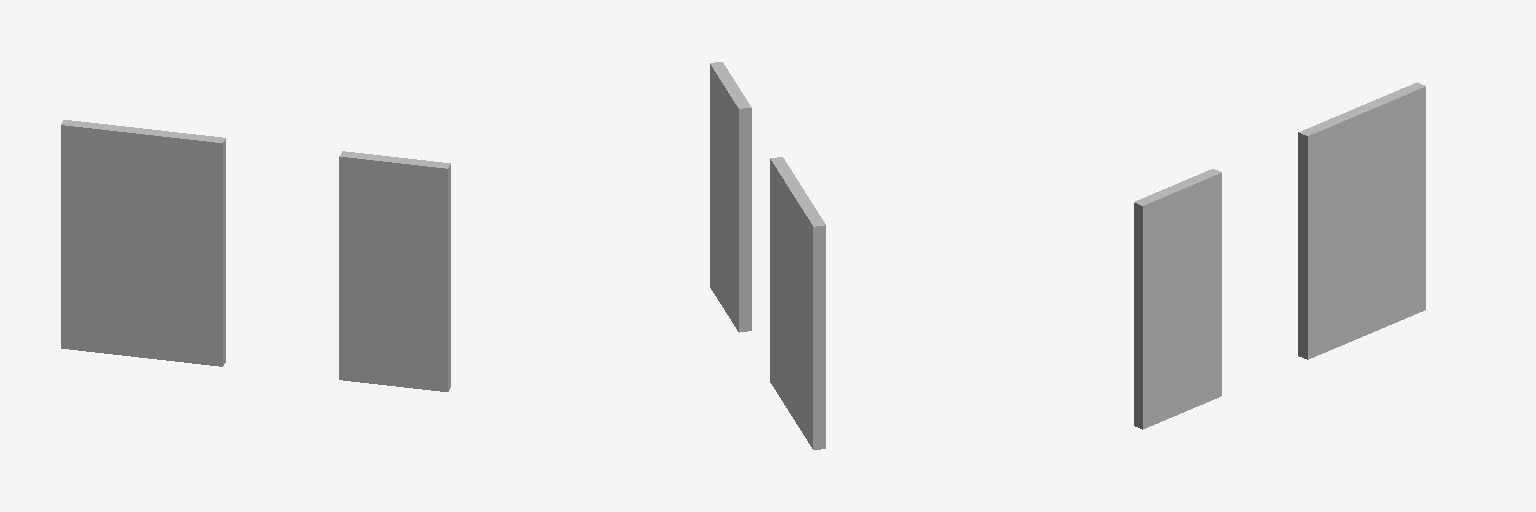
The model's file is bathwallparts.obj.
The picture shows the model from 3 angles: view 1: azimuth 30°, elevation 25°; view 2: azimuth 150°, elevation 25°; view 3: azimuth 270°, elevation 25°; orthographic projection.
Parts seen in each view (by area): view 1: Cube.006_Cube.009, Cube.008; view 2: Cube.006_Cube.009, Cube.008; view 3: Cube.006_Cube.009, Cube.008.
Boxes of the visible parts, x1,y1,x2,y2 form: Cube.006_Cube.009: [61, 120, 225, 366]; Cube.008: [339, 151, 450, 391]; Cube.006_Cube.009: [770, 157, 825, 449]; Cube.008: [710, 62, 751, 332]; Cube.006_Cube.009: [1298, 82, 1425, 359]; Cube.008: [1134, 169, 1221, 429].
Size of the model in its own units: 0.6353 by 0.535 by 0.6353.